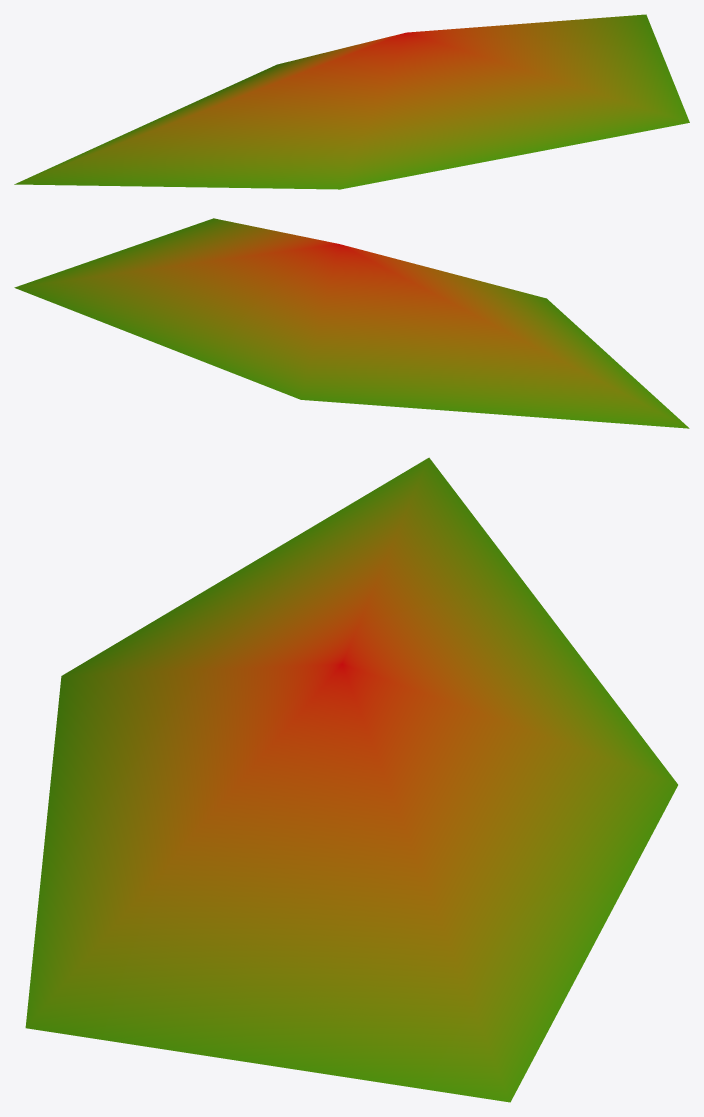
File: Var6_LOD3.fbx
The picture shows the model from 3 angles, top to bottom: view 1: azimuth 30°, elevation 25°; view 2: azimuth 150°, elevation 25°; view 3: azimuth 270°, elevation 25°; orthographic projection. The views are drawn at different scales.
Visible parts, largest first — view 1: _05c5_Var6_LOD3; view 2: _05c5_Var6_LOD3; view 3: _05c5_Var6_LOD3.
Boxes of the visible parts, bbox=[...] form: _05c5_Var6_LOD3: bbox=[14, 14, 689, 189]; _05c5_Var6_LOD3: bbox=[14, 218, 689, 428]; _05c5_Var6_LOD3: bbox=[25, 457, 677, 1102].
Bounding box in the file's own units: 51.66 × 6.24 × 22.37.
